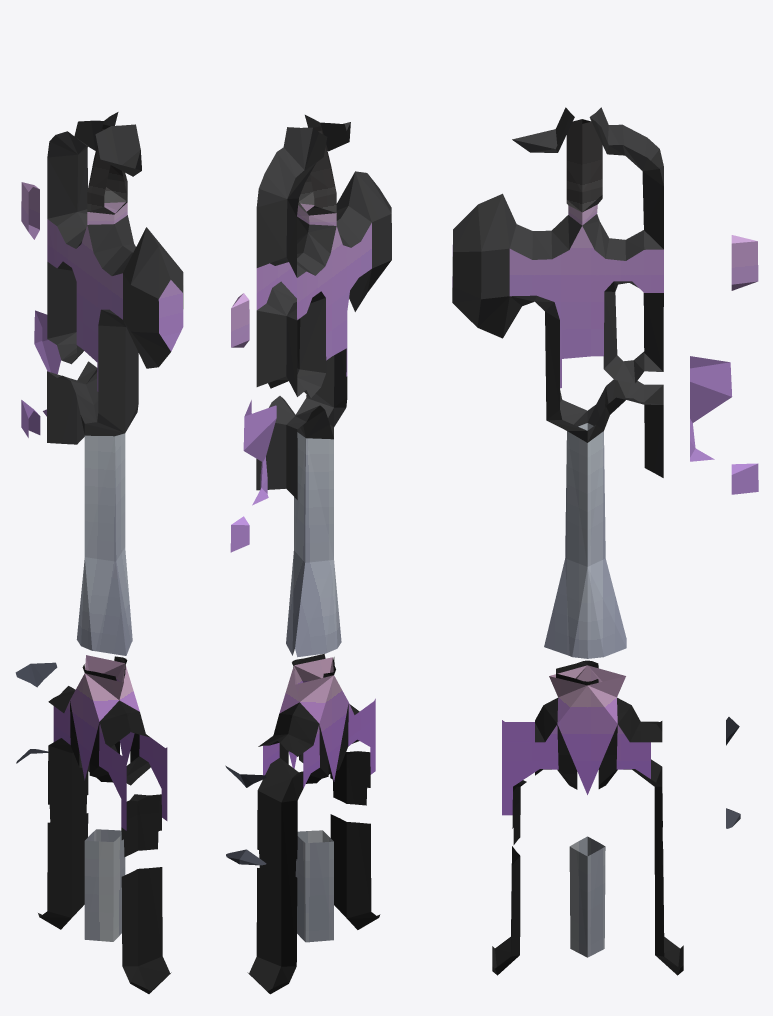
File: silentdirge.obj
3 views of the same model, side by side, from view 1: azimuth 30°, elevation 25°; view 2: azimuth 150°, elevation 25°; view 3: azimuth 270°, elevation 25° (orthographic). The views are drawn at different scales.
Size of the model in its own units: 5.46 by 96.01 by 28.75.
